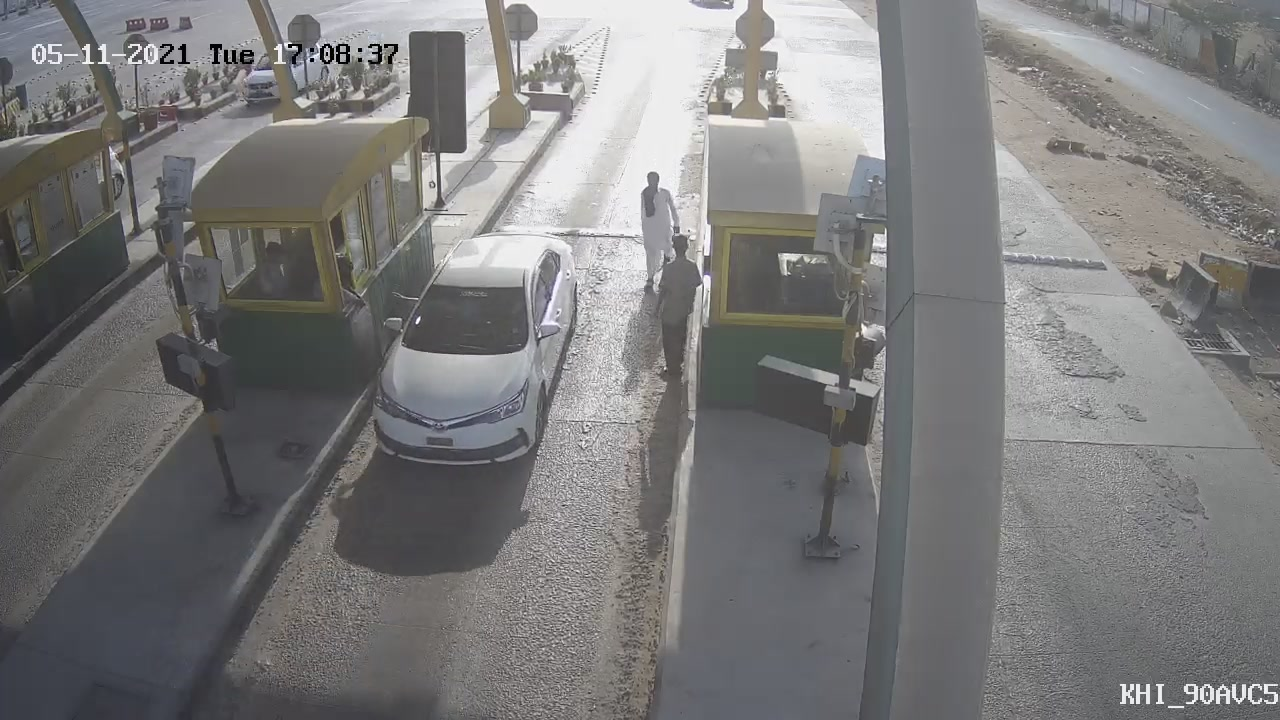F1: (346, 213, 598, 491)
